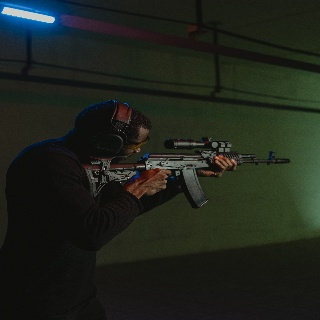rifle: (80, 136, 292, 209)
